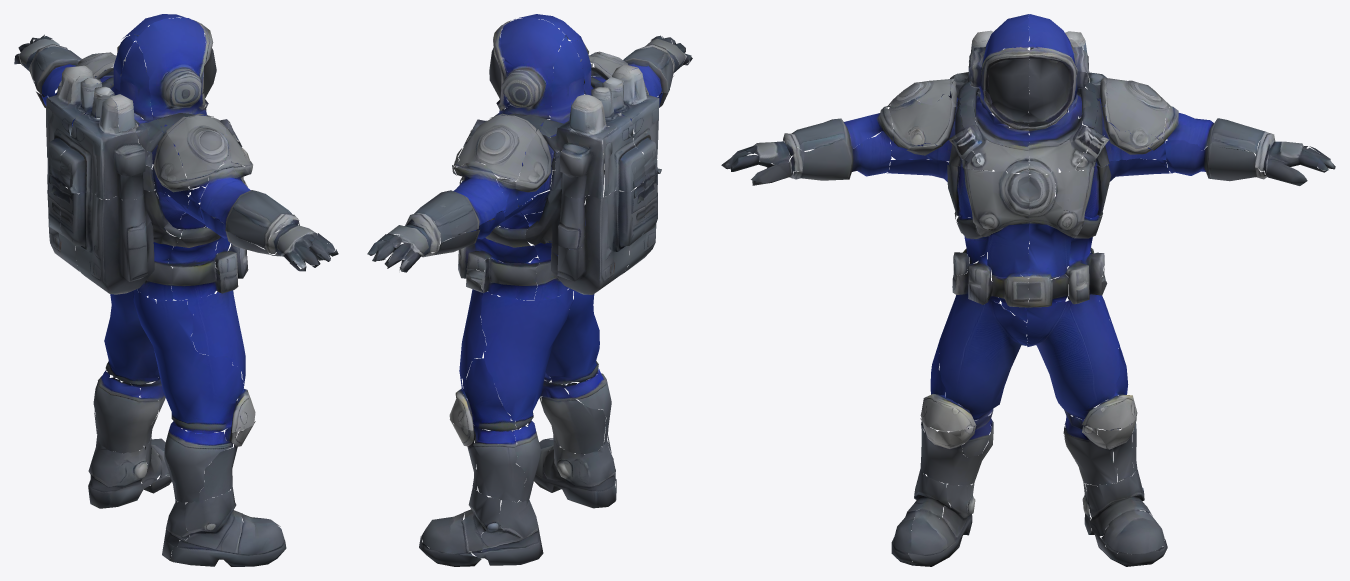
File: mesh_player_character.glb
3 renders of one model, left to right at view 1: azimuth 30°, elevation 25°; view 2: azimuth 150°, elevation 25°; view 3: azimuth 270°, elevation 25°, orthographic. The views are drawn at different scales.
Visible parts, largest first — view 1: tripo_node_f1a3701c-b71b-4954-a670-7862ec25fa34; view 2: tripo_node_f1a3701c-b71b-4954-a670-7862ec25fa34; view 3: tripo_node_f1a3701c-b71b-4954-a670-7862ec25fa34.
Part boxes in pixels (bbox=[...]): tripo_node_f1a3701c-b71b-4954-a670-7862ec25fa34: bbox=[14, 14, 338, 566]; tripo_node_f1a3701c-b71b-4954-a670-7862ec25fa34: bbox=[367, 14, 692, 566]; tripo_node_f1a3701c-b71b-4954-a670-7862ec25fa34: bbox=[721, 14, 1335, 566].
Bounding box in the file's own units: 0.3426 × 0.9349 × 1.
Materials: 1 (1 with a texture image).
